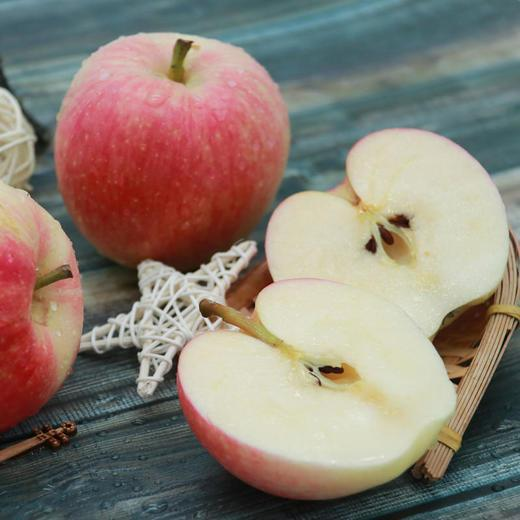apple: (179, 276, 457, 501), (53, 32, 292, 276), (265, 128, 509, 345), (1, 167, 84, 432)
